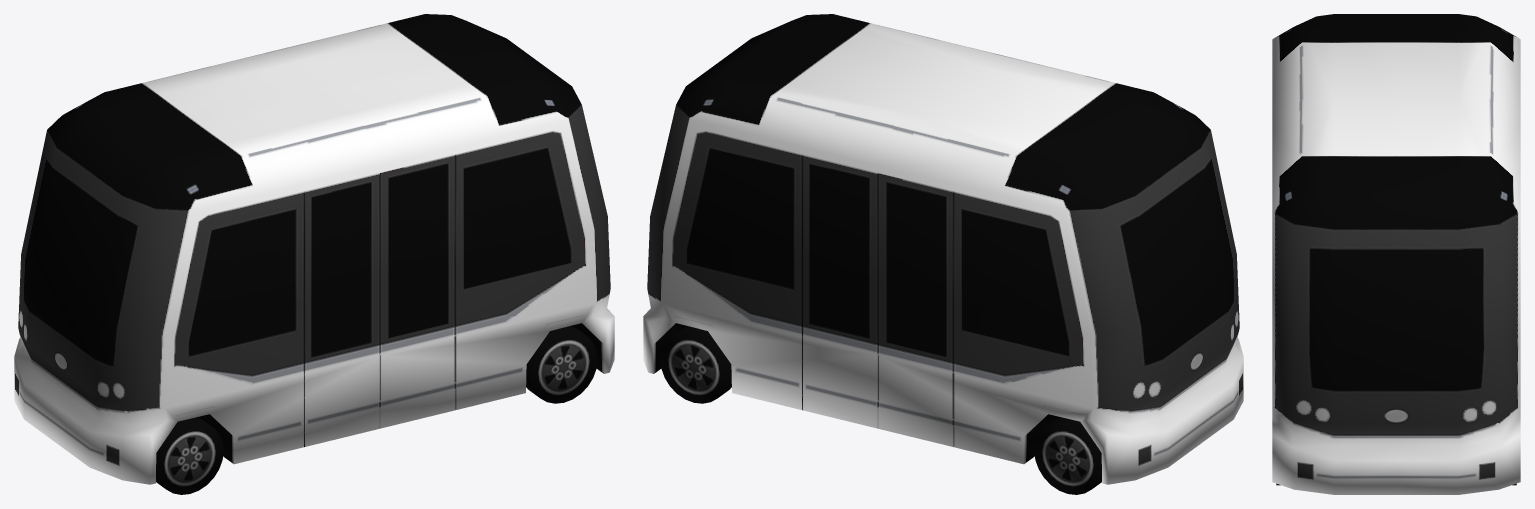
File: Car_MiniBus.glb
The picture shows the model from 3 angles, left to right: view 1: azimuth 30°, elevation 25°; view 2: azimuth 150°, elevation 25°; view 3: azimuth 270°, elevation 25°; orthographic projection. The views are drawn at different scales.
Visible parts, largest first — view 1: SM_JinLing_AM_LowPoly; view 2: SM_JinLing_AM_LowPoly; view 3: SM_JinLing_AM_LowPoly.
Boxes of the visible parts, <box> form: SM_JinLing_AM_LowPoly: <box>14,14,614,494</box>; SM_JinLing_AM_LowPoly: <box>643,14,1243,494</box>; SM_JinLing_AM_LowPoly: <box>1272,14,1520,494</box>.
Size of the model in its own units: 454 by 263 by 200.
1 material, 1 textured.
